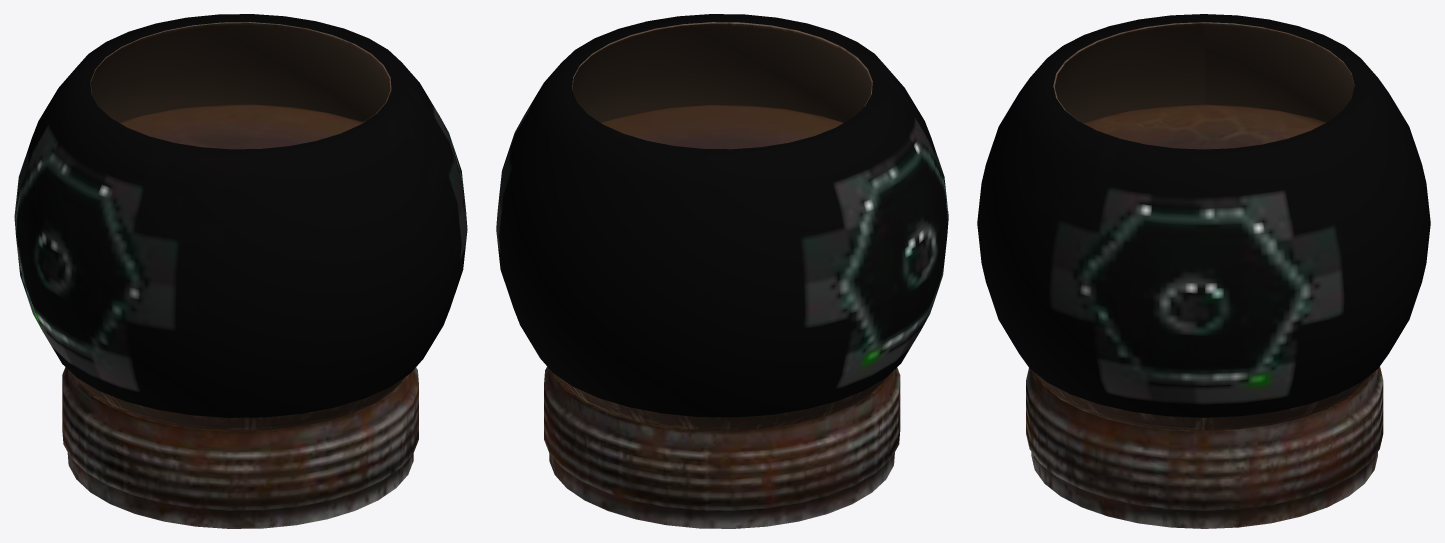
File: basicscraptea.glb
The picture shows the model from 3 angles, left to right: view 1: azimuth 30°, elevation 25°; view 2: azimuth 150°, elevation 25°; view 3: azimuth 270°, elevation 25°; orthographic projection.
Visible parts, largest first — view 1: BasicScrapTea_LOD0; view 2: BasicScrapTea_LOD0; view 3: BasicScrapTea_LOD0.
Part boxes in pixels (x1,y1,x2,y2): BasicScrapTea_LOD0: (14, 14, 467, 528); BasicScrapTea_LOD0: (496, 14, 948, 528); BasicScrapTea_LOD0: (977, 14, 1430, 528).
Size of the model in its own units: 0.1103 by 0.0993 by 0.1103.
Materials: 2 (2 with a texture image).
